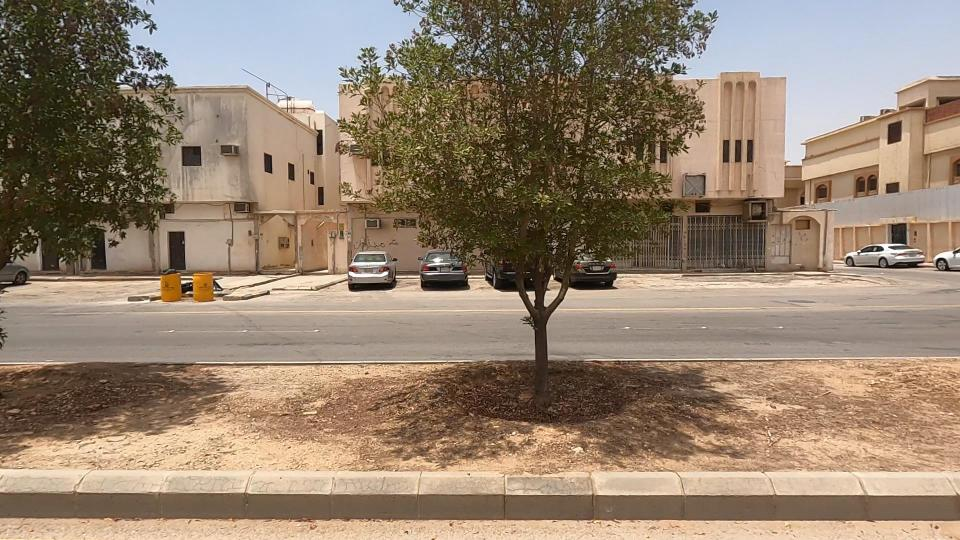GARBAGE: (141, 255, 217, 310), (200, 254, 247, 317)
GRAFFITI: (328, 211, 431, 277)
